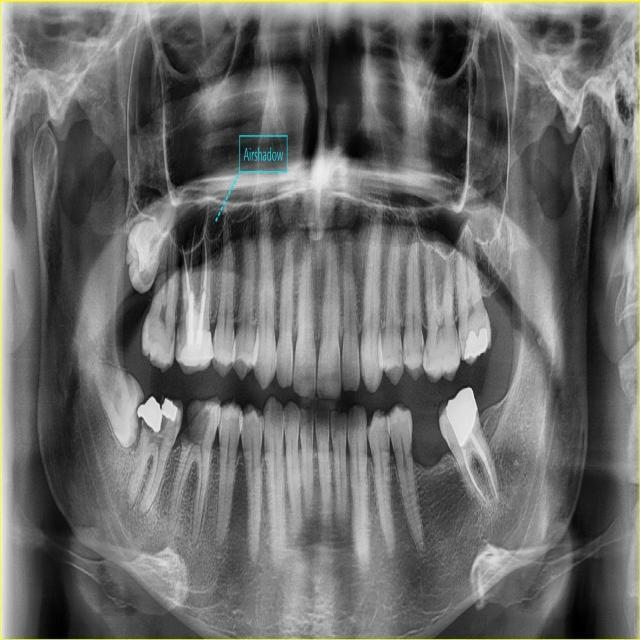71: (195, 288, 210, 349), (466, 431, 488, 463), (187, 290, 195, 350)
74: (457, 441, 489, 507), (483, 459, 501, 503), (182, 246, 192, 300), (188, 222, 196, 280), (203, 231, 207, 292)
NucleOSS Implant: (440, 386, 487, 448), (134, 395, 174, 434), (464, 326, 489, 361), (160, 398, 178, 422)
Sterngold Implant: (178, 397, 215, 454), (139, 409, 182, 445), (423, 342, 432, 362), (169, 329, 176, 350), (402, 346, 410, 362), (175, 331, 181, 351), (419, 341, 425, 361), (407, 438, 412, 459), (397, 346, 403, 359)
Straumann Implant: (178, 306, 221, 369)
